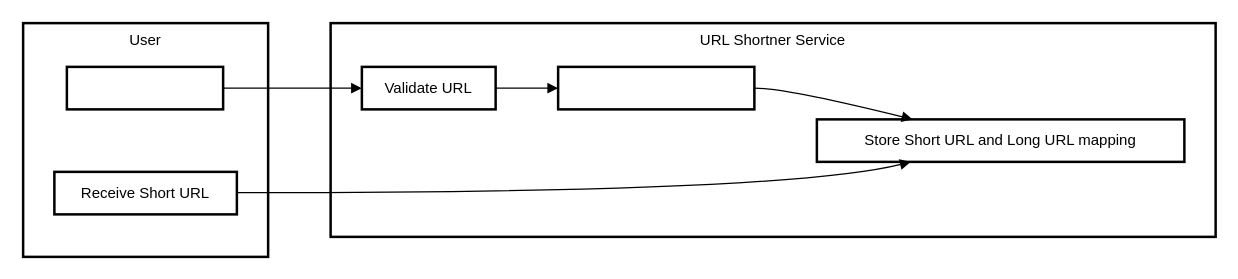
Some shapes in this 1238 by 279 pixel diagram are drawn without their labels. Here are the shapes that lost their labels. From the top down, the centre of each, then its label:
At (144,87): "Enter Long URL".
At (655,87): "Generate Short URL".
